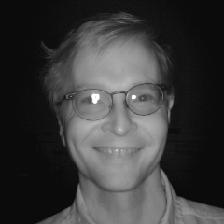happy: (34, 8, 189, 201)
